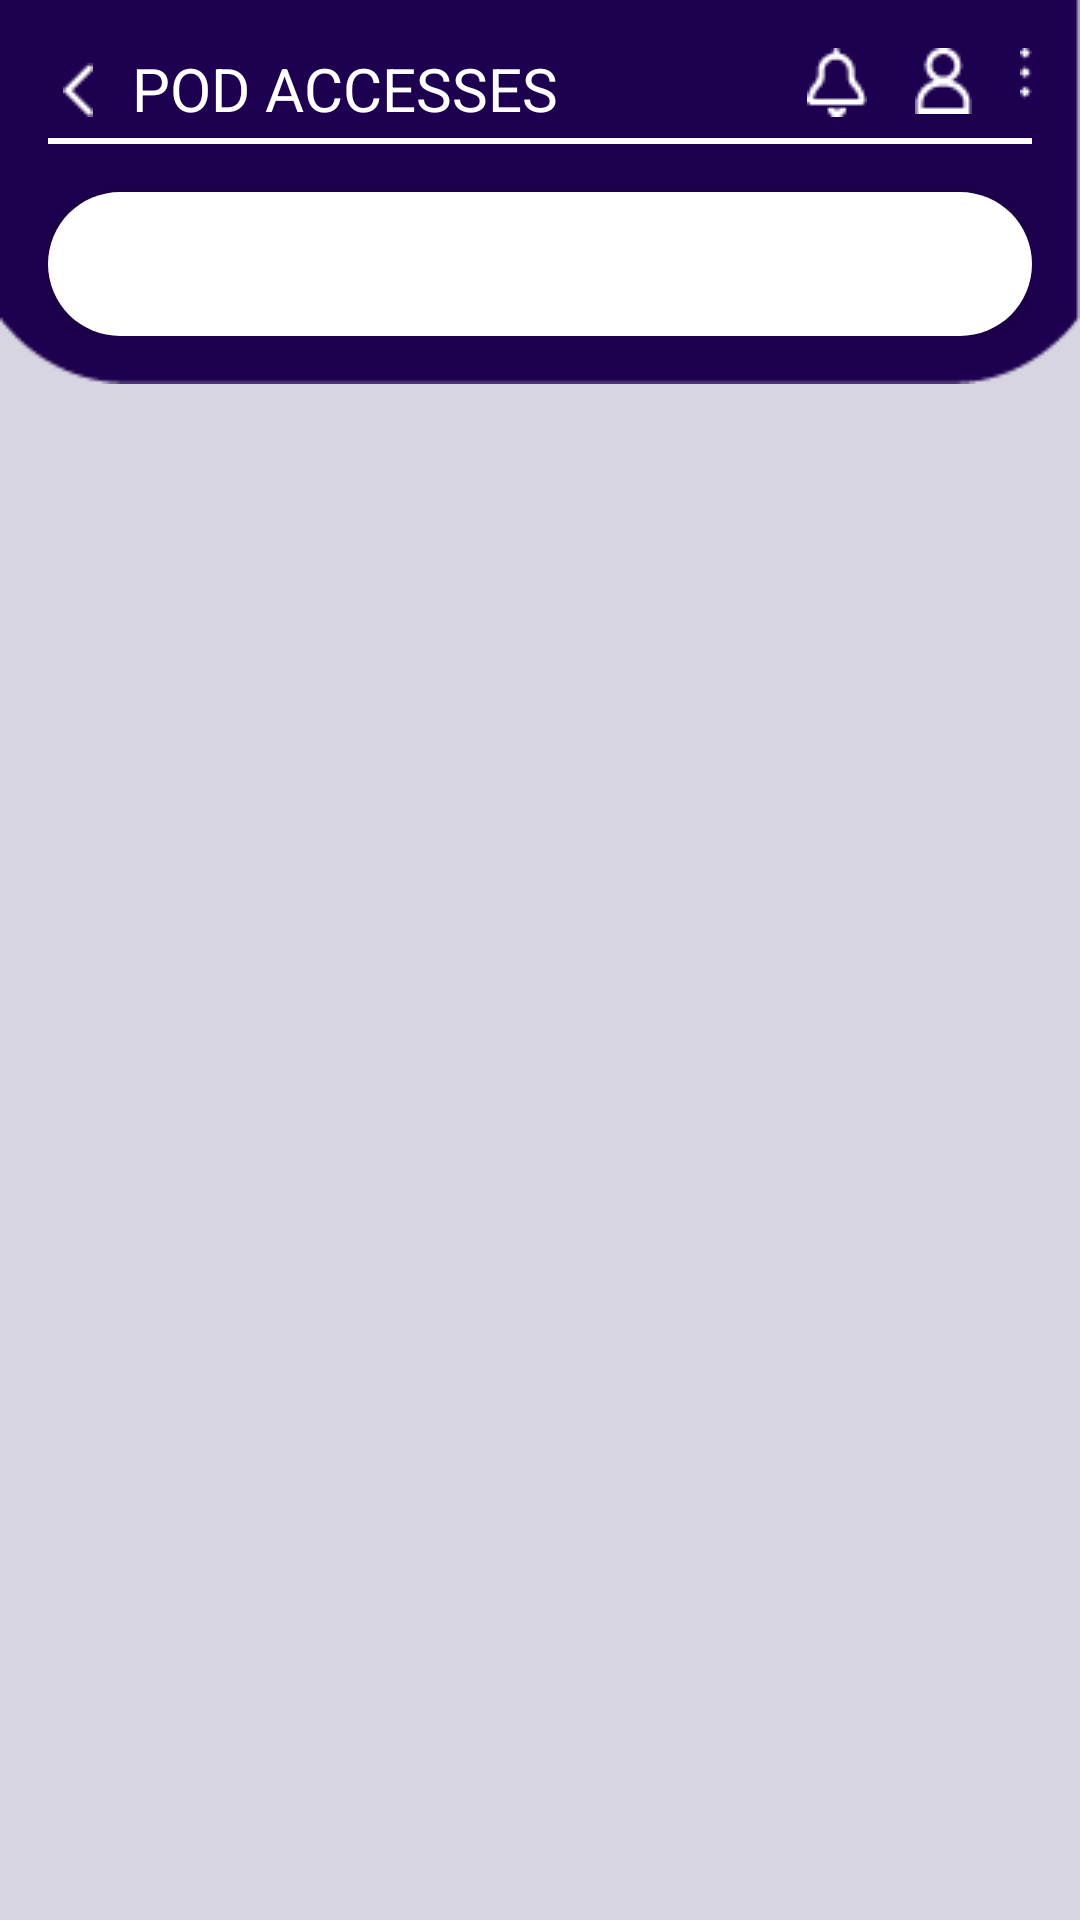

Named icons in this screenshot (1080w x 1920h) and their bounding boxes, [x1=x1, y1=y1, x2=x2, y2=y2]:
back: [x1=63, y1=63, x2=93, y2=117]
notif: [x1=807, y1=48, x2=867, y2=117]
user: [x1=915, y1=48, x2=972, y2=114]
